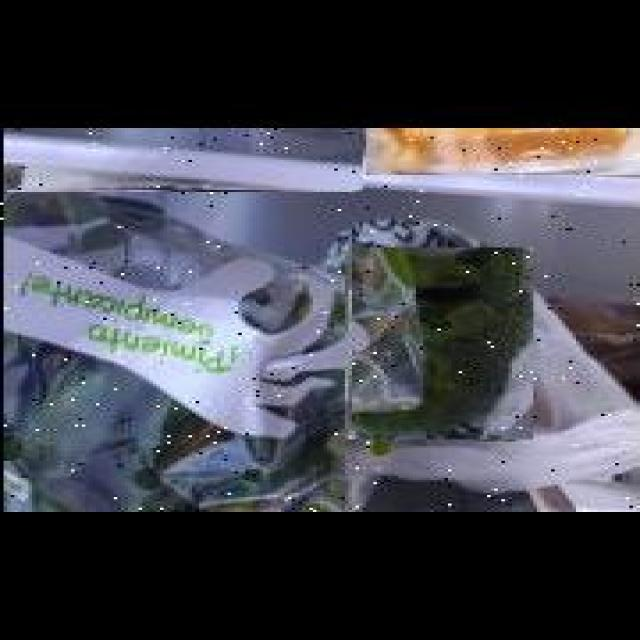broccoli: (345, 248, 530, 440)
humus: (366, 128, 640, 215)
pineapple: (0, 128, 359, 192)
